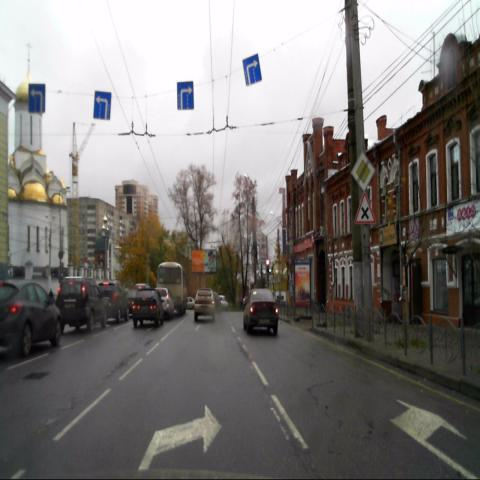1_6: (354, 189, 375, 225)
